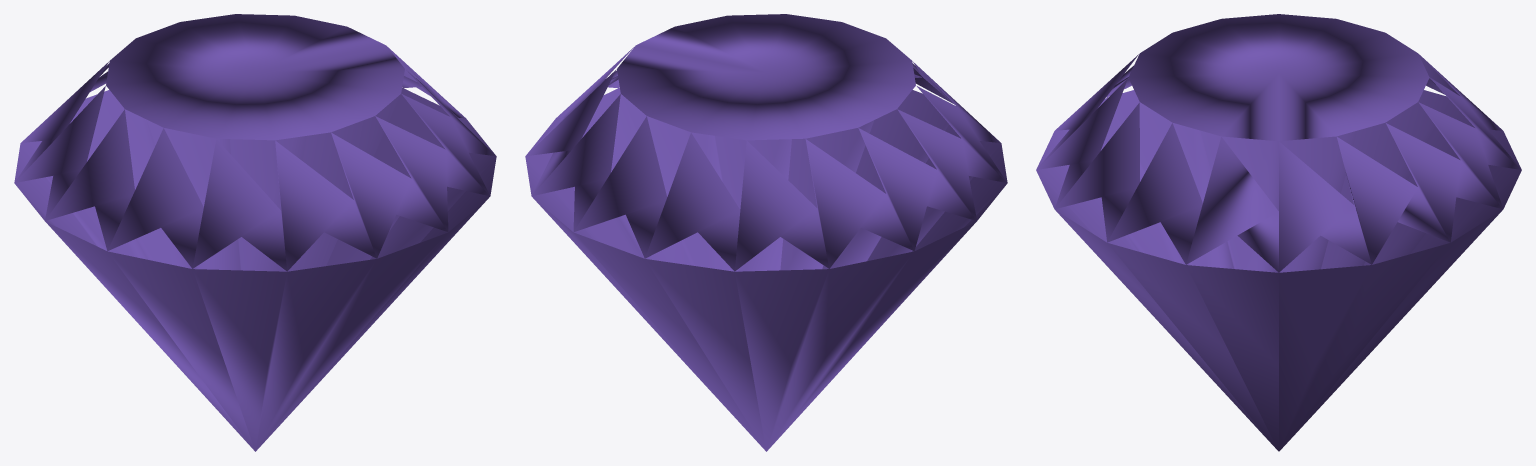
File: brilliant-violet.glb
The picture shows the model from 3 angles, left to right: view 1: azimuth 30°, elevation 25°; view 2: azimuth 150°, elevation 25°; view 3: azimuth 270°, elevation 25°; orthographic projection.
Parts seen in each view (by area): view 1: gem; view 2: gem; view 3: gem.
Boxes of the visible parts, <box> form: gem: <box>14,14,496,451</box>; gem: <box>525,14,1007,451</box>; gem: <box>1036,14,1521,451</box>.
Bounding box in the file's own units: 2 × 1.72 × 2.
